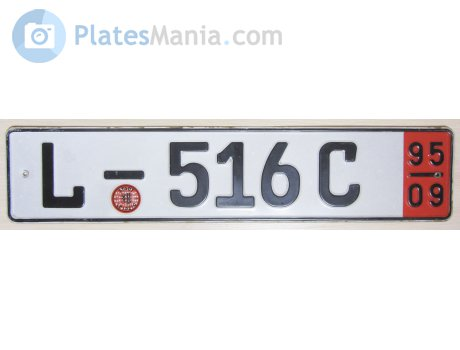License Plates: (16, 134, 388, 210)
